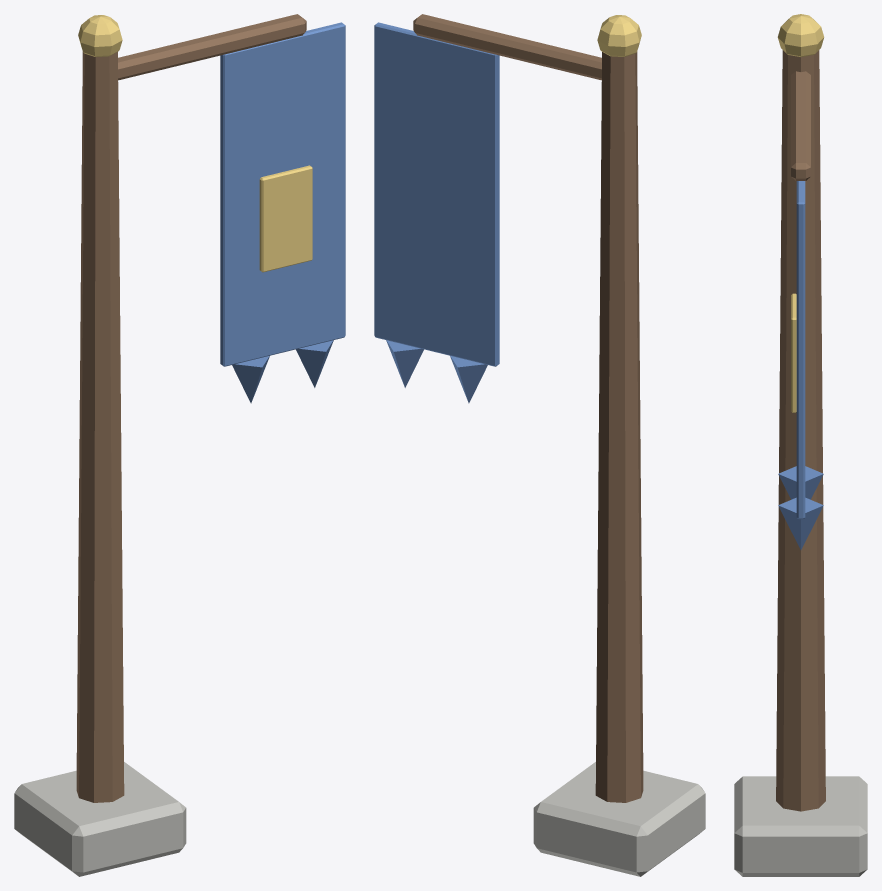
The model's file is banner-pole.glb.
3 views of the same model, side by side, from view 1: azimuth 30°, elevation 25°; view 2: azimuth 150°, elevation 25°; view 3: azimuth 270°, elevation 25° (orthographic).
Parts seen in each view (by area): view 1: banner-pole, banner/blue, banner/gold; view 2: banner-pole, banner/blue; view 3: banner-pole, banner/blue, banner/gold.
Part boxes in pixels (left/top/right/bottom): banner-pole: left=14, top=14, right=306, bottom=876; banner/blue: left=220, top=22, right=345, bottom=403; banner/gold: left=259, top=165, right=312, bottom=272; banner-pole: left=413, top=14, right=705, bottom=876; banner/blue: left=374, top=22, right=499, bottom=403; banner-pole: left=734, top=14, right=867, bottom=876; banner/blue: left=778, top=181, right=823, bottom=549; banner/gold: left=791, top=293, right=796, bottom=412.
Size of the model in its own units: 2.11 by 5.54 by 0.8.
